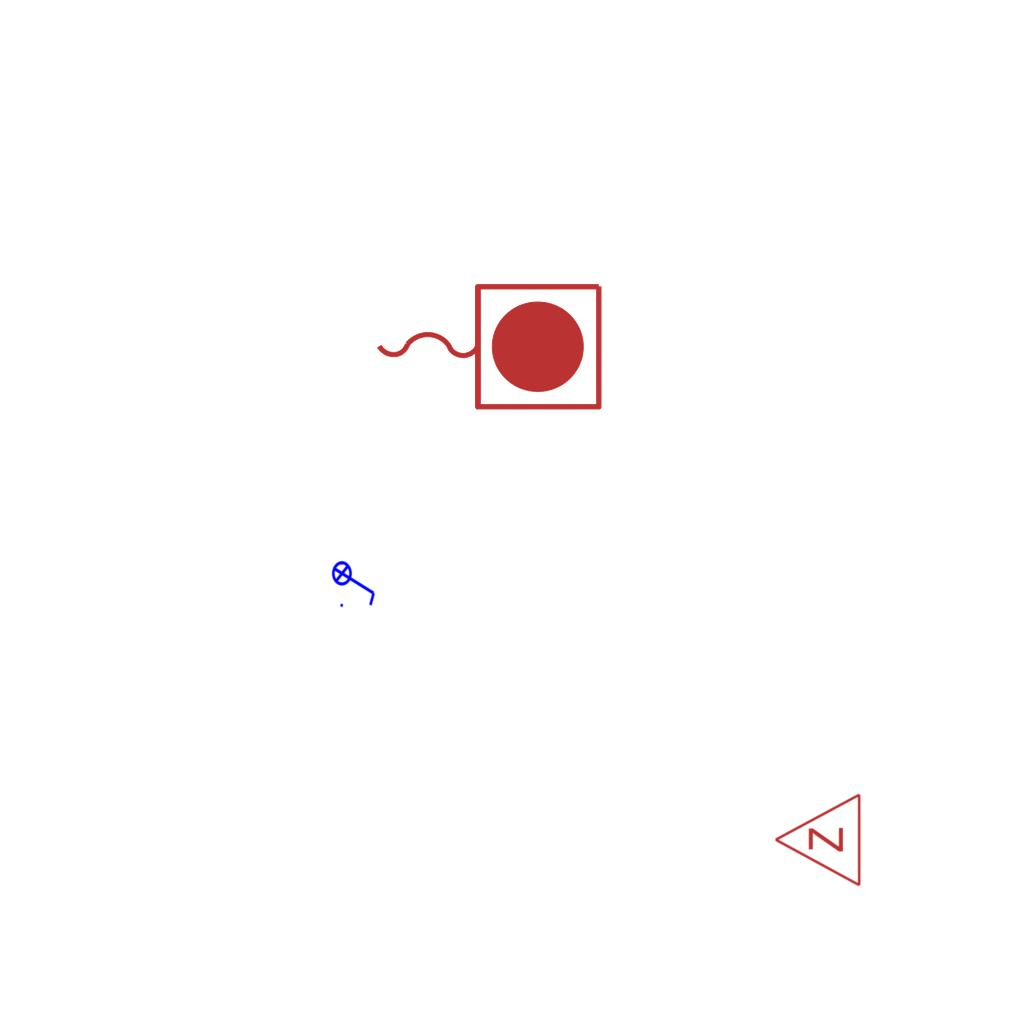Ausschalter_beleuchtet: (331, 554, 379, 610)
Zimmersignalleuchte: (768, 792, 868, 890)
Zugtaster: (366, 273, 610, 417)
